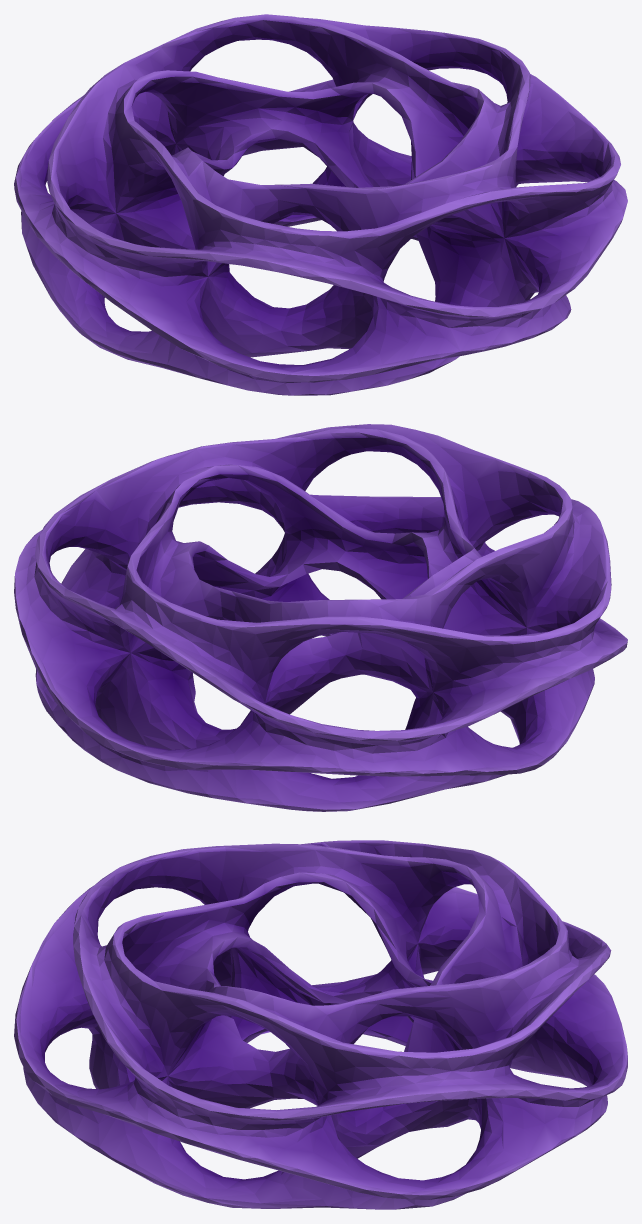
Rendered from heptoroid8KC.obj.
3 renders of one model, top to bottom at view 1: azimuth 30°, elevation 25°; view 2: azimuth 150°, elevation 25°; view 3: azimuth 270°, elevation 25°, orthographic. The views are drawn at different scales.
Size of the model in its own units: 6.68 by 2.4 by 6.69.
